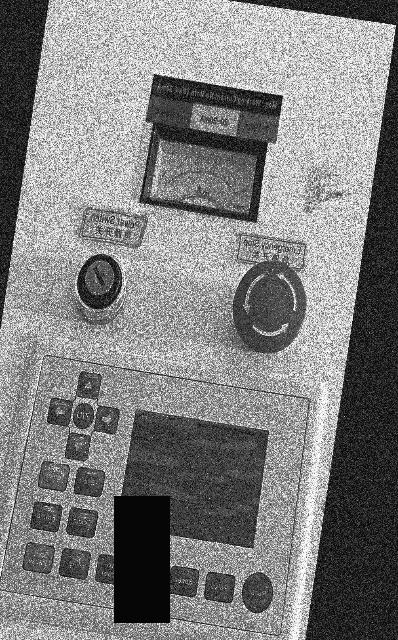Amp_Meter: (141, 124, 265, 219)
Display: (122, 411, 268, 548)
Down_button: (65, 433, 90, 461)
Emergency_Stop: (233, 261, 306, 353)
Enter_button: (38, 461, 69, 491)
Esc_button: (74, 468, 105, 497)
File_button: (59, 549, 91, 579), (59, 549, 90, 579)
Frame_button: (31, 501, 62, 532)
Left_button: (95, 406, 119, 434)
Max-Power_button: (95, 554, 114, 585)
Origin_button: (67, 508, 98, 538)
Power_switch: (76, 254, 126, 323)
Pulse_button: (204, 572, 235, 603)
Reset_button: (243, 573, 273, 613)
Right_button: (47, 399, 72, 426)
Speed_button: (170, 565, 198, 597)
Start-Pause_button: (23, 543, 54, 574)
Up_button: (76, 372, 101, 399)
Z_U_button: (73, 403, 94, 429)
